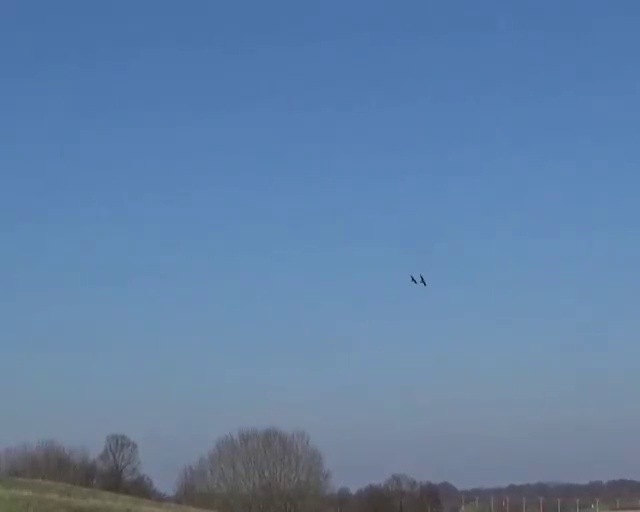BIRD: (410, 273, 426, 286)
